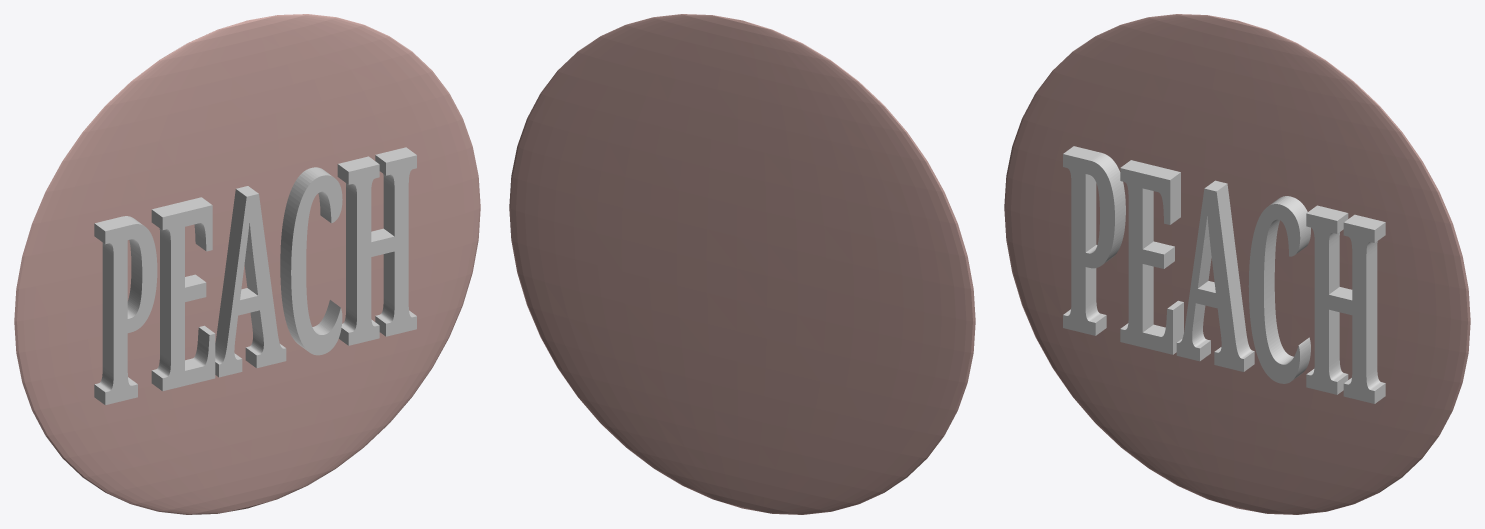
The model's file is peach button.glb.
3 renders of one model, left to right at view 1: azimuth 30°, elevation 25°; view 2: azimuth 150°, elevation 25°; view 3: azimuth 330°, elevation 25°, orthographic.
Visible parts, largest first — view 1: Mesh_Mesh_head_geo.001_lambert2SG.001; view 2: Mesh_Mesh_head_geo.001_lambert2SG.001; view 3: Mesh_Mesh_head_geo.001_lambert2SG.001.
Boxes of the visible parts, x1,y1,x2,y2 form: Mesh_Mesh_head_geo.001_lambert2SG.001: (14, 14, 480, 514); Mesh_Mesh_head_geo.001_lambert2SG.001: (509, 14, 975, 514); Mesh_Mesh_head_geo.001_lambert2SG.001: (1004, 14, 1470, 514).
Bounding box in the file's own units: 25 × 25 × 2.
